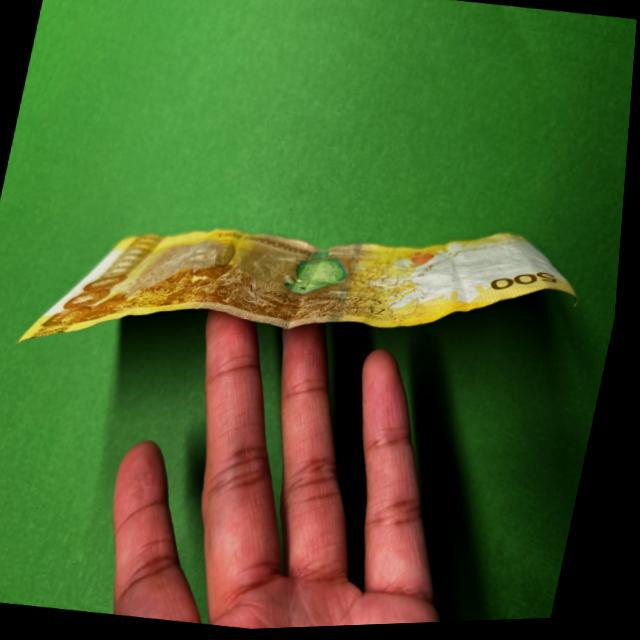value: (43, 269, 134, 331)
